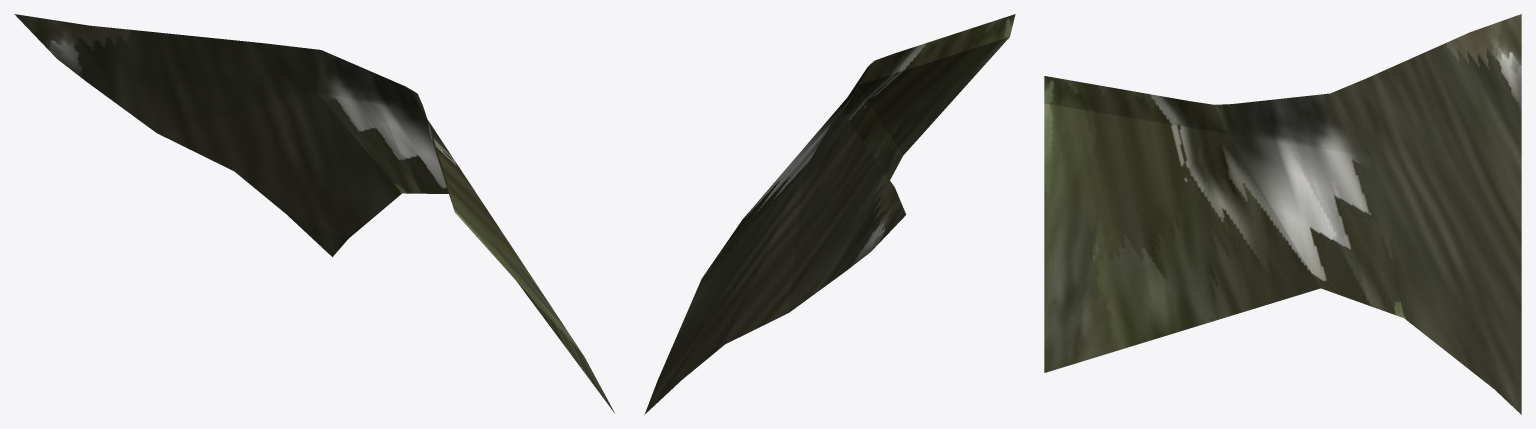
3 renders of one model, left to right at view 1: azimuth 30°, elevation 25°; view 2: azimuth 150°, elevation 25°; view 3: azimuth 270°, elevation 25°, orthographic. The views are drawn at different scales.
Size of the model in its own units: 1.91 by 1.84 by 2.95.
2 materials, 2 textured.
